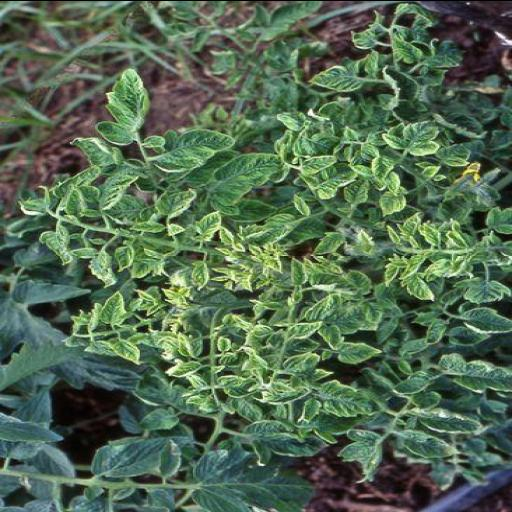Yellow Leaf Curl Virus: (90, 58, 152, 148), (204, 146, 282, 204), (435, 348, 512, 402), (158, 124, 244, 172), (330, 424, 388, 485), (301, 294, 373, 338), (390, 425, 462, 468), (393, 402, 483, 434), (316, 378, 382, 418), (383, 113, 441, 156), (64, 130, 126, 170), (100, 164, 148, 210), (70, 244, 116, 290), (307, 264, 371, 294), (302, 63, 361, 95), (330, 335, 384, 369), (453, 304, 512, 335), (450, 275, 512, 303), (151, 185, 200, 217), (37, 224, 74, 266), (129, 246, 171, 278), (255, 212, 299, 242), (280, 347, 322, 376), (400, 266, 435, 300), (192, 207, 226, 241), (378, 252, 409, 288), (98, 290, 128, 326), (214, 374, 258, 398), (434, 140, 474, 166), (313, 228, 347, 258), (106, 337, 140, 367), (296, 152, 340, 174), (375, 190, 406, 220), (394, 208, 424, 238), (390, 36, 424, 62), (286, 318, 322, 341), (64, 184, 86, 220), (342, 174, 370, 202), (112, 240, 136, 272), (168, 358, 206, 378), (422, 316, 448, 344), (370, 155, 396, 181), (416, 220, 442, 246), (190, 258, 210, 290), (126, 220, 167, 234)
